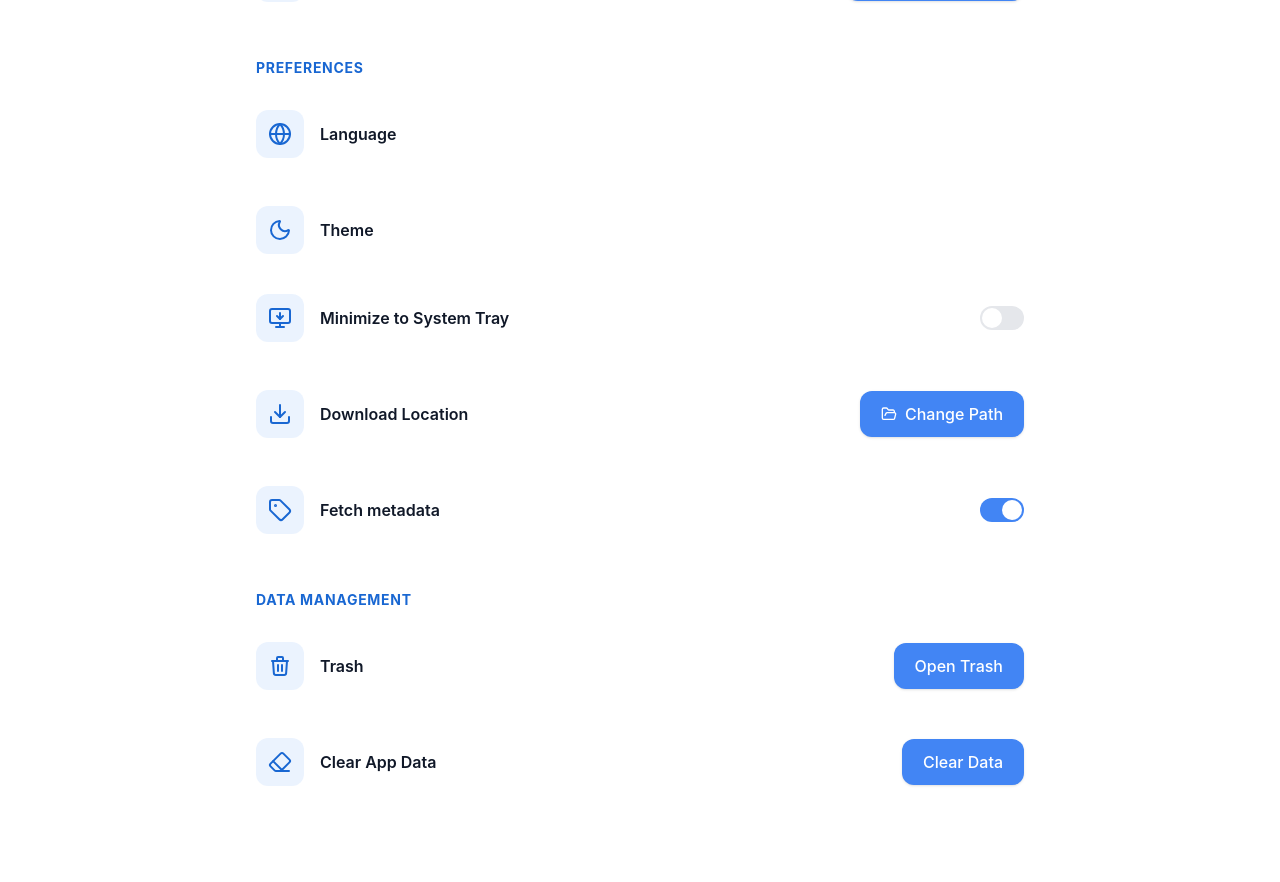
Scenario: SettingsTab clear cache button › opens the cache manager modal instead of clearing directly
(page scrolled)
Click the button "Clear Data" at (963, 762), box [902, 739, 1024, 785]
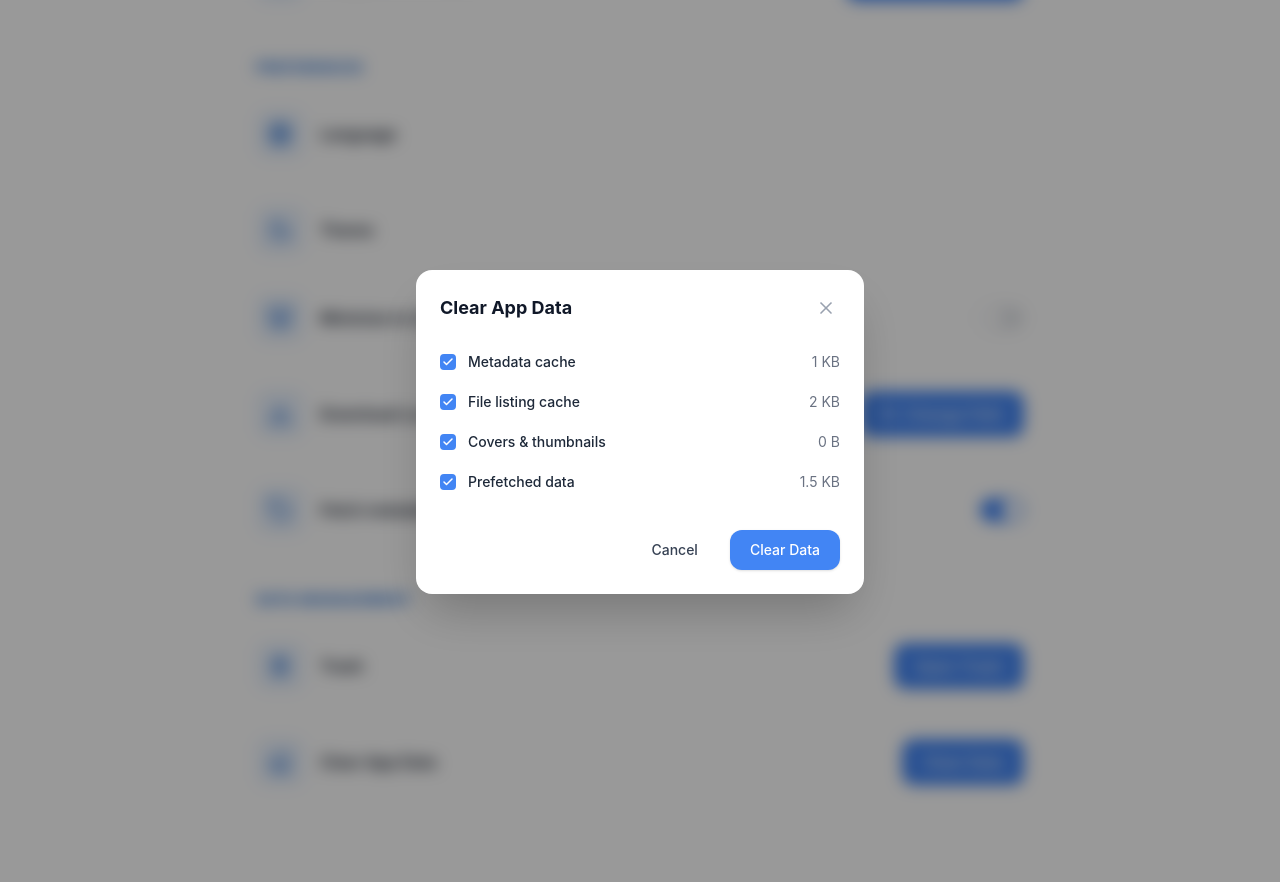
Check: the heading "Clear App Data" is shown, box [440, 297, 572, 318]
